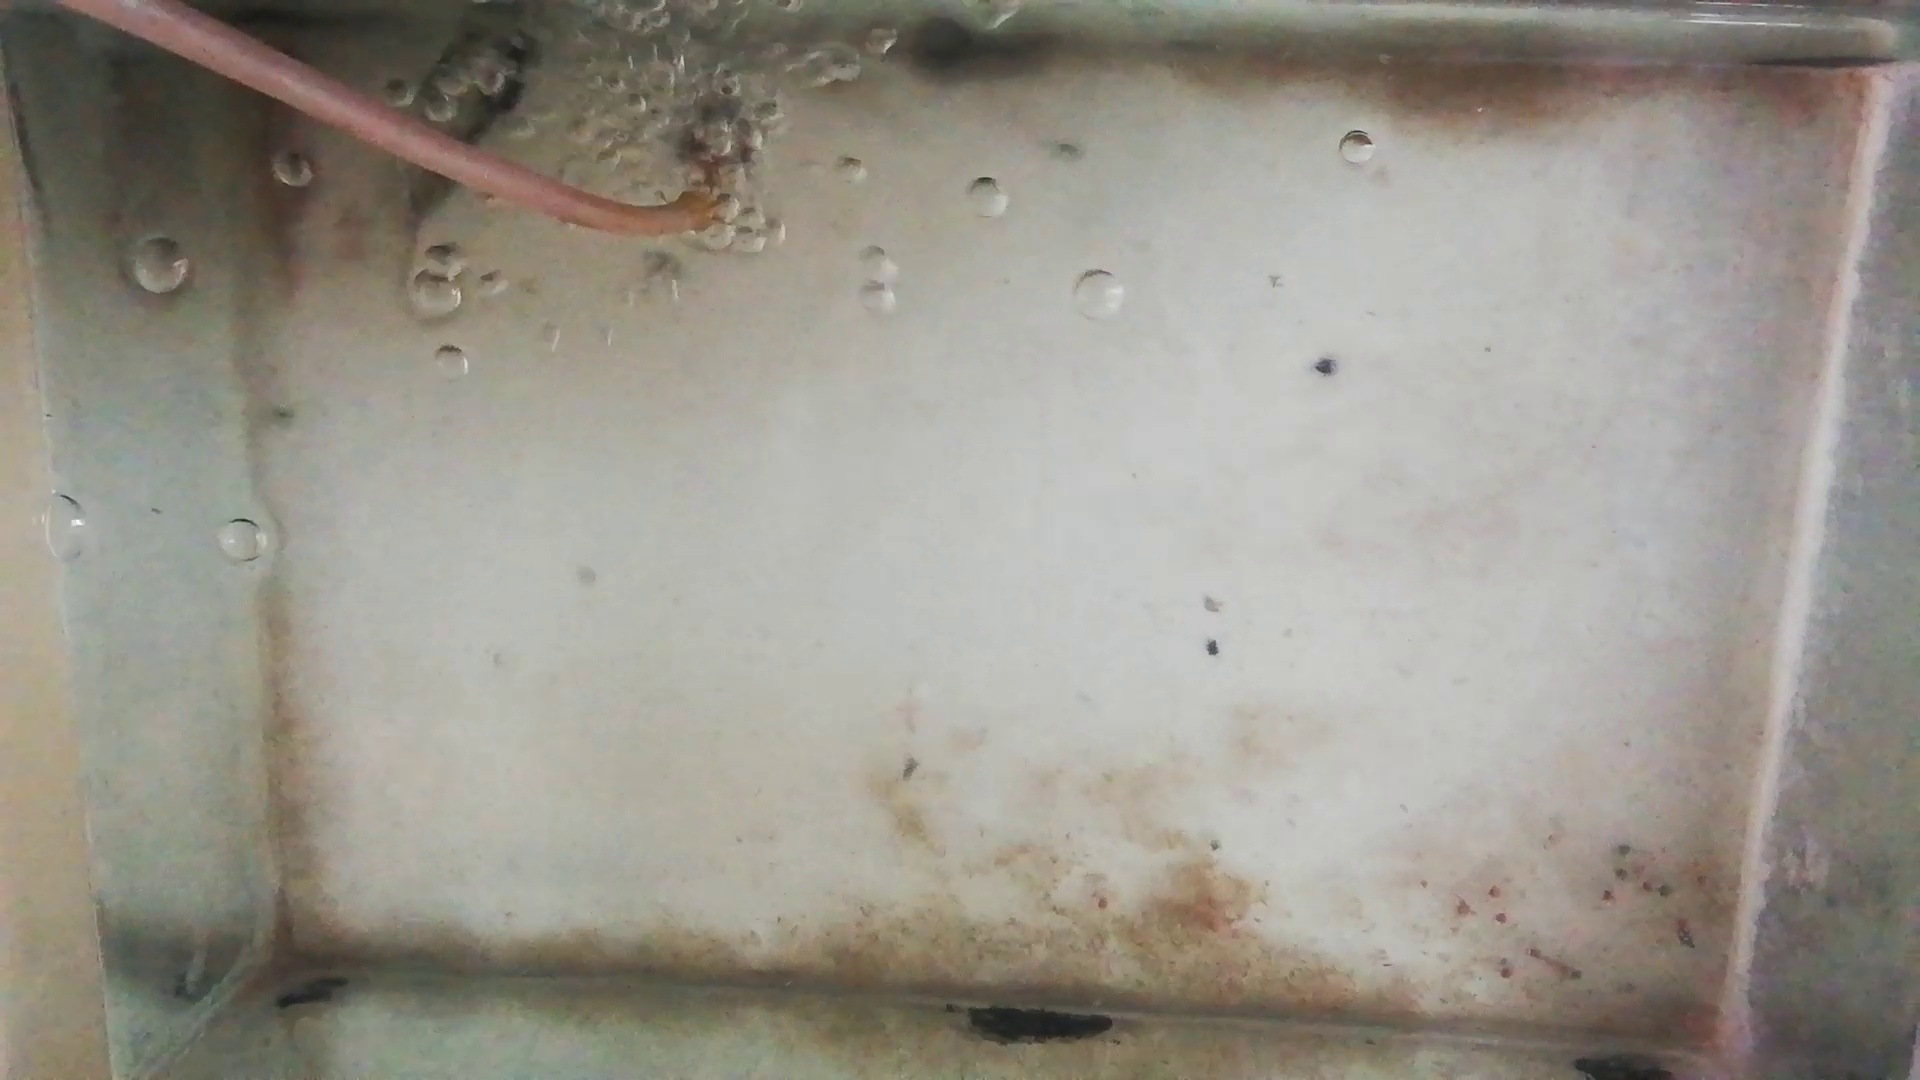fish: (413, 47, 525, 229), (251, 88, 303, 280)
